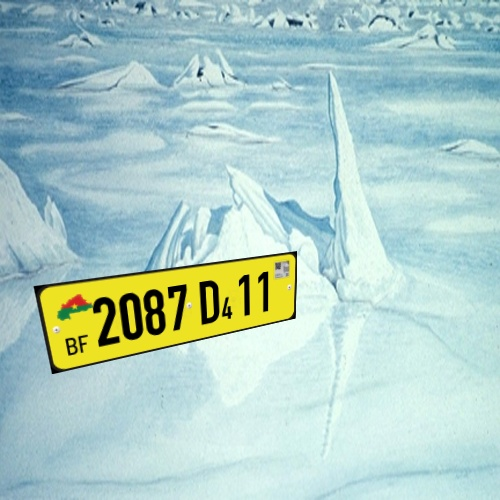plate: (25, 246, 305, 376)
